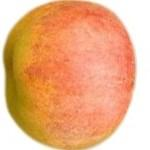fruit: (4, 0, 137, 150)
